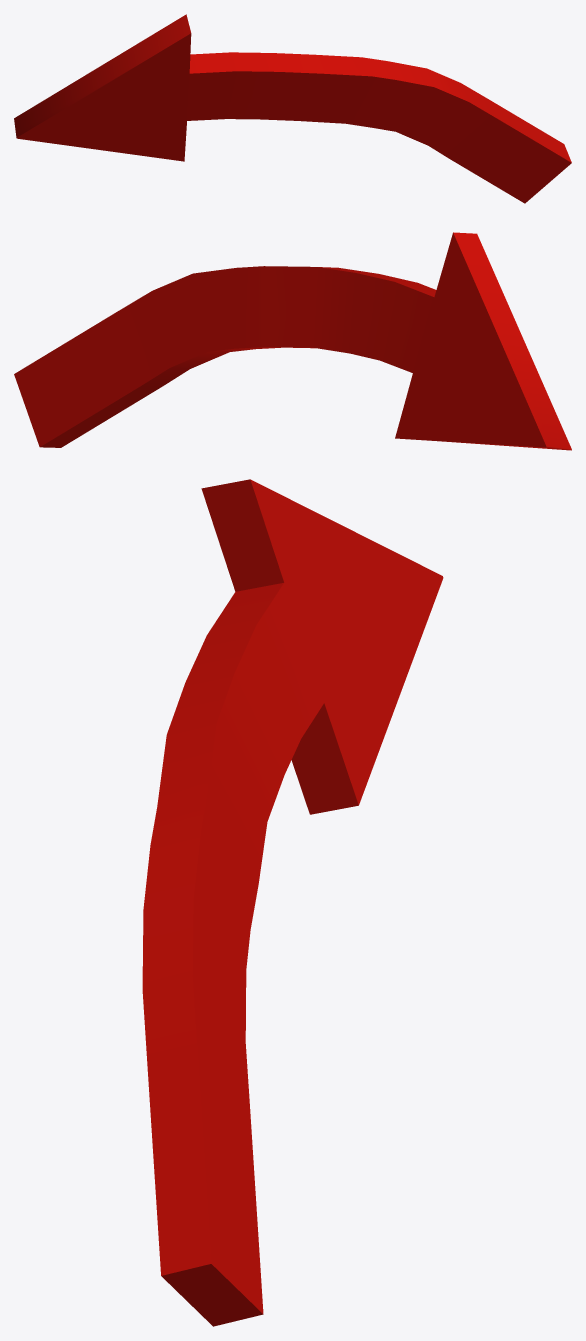
File: Arrow07.fbx
The picture shows the model from 3 angles, top to bottom: view 1: azimuth 30°, elevation 25°; view 2: azimuth 150°, elevation 25°; view 3: azimuth 270°, elevation 25°; orthographic projection. The views are drawn at different scales.
Parts seen in each view (by area): view 1: Cube.106; view 2: Cube.106; view 3: Cube.106.
Boxes of the visible parts, <box> form: Cube.106: <box>14,14,571,203</box>; Cube.106: <box>14,232,571,450</box>; Cube.106: <box>142,479,443,1326</box>.
Bounding box in the file's own units: 3.58 × 1.8 × 0.9305.
